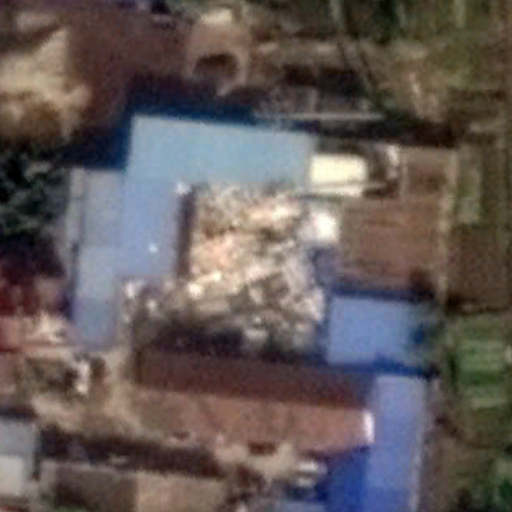msw: (174, 189, 323, 357)
